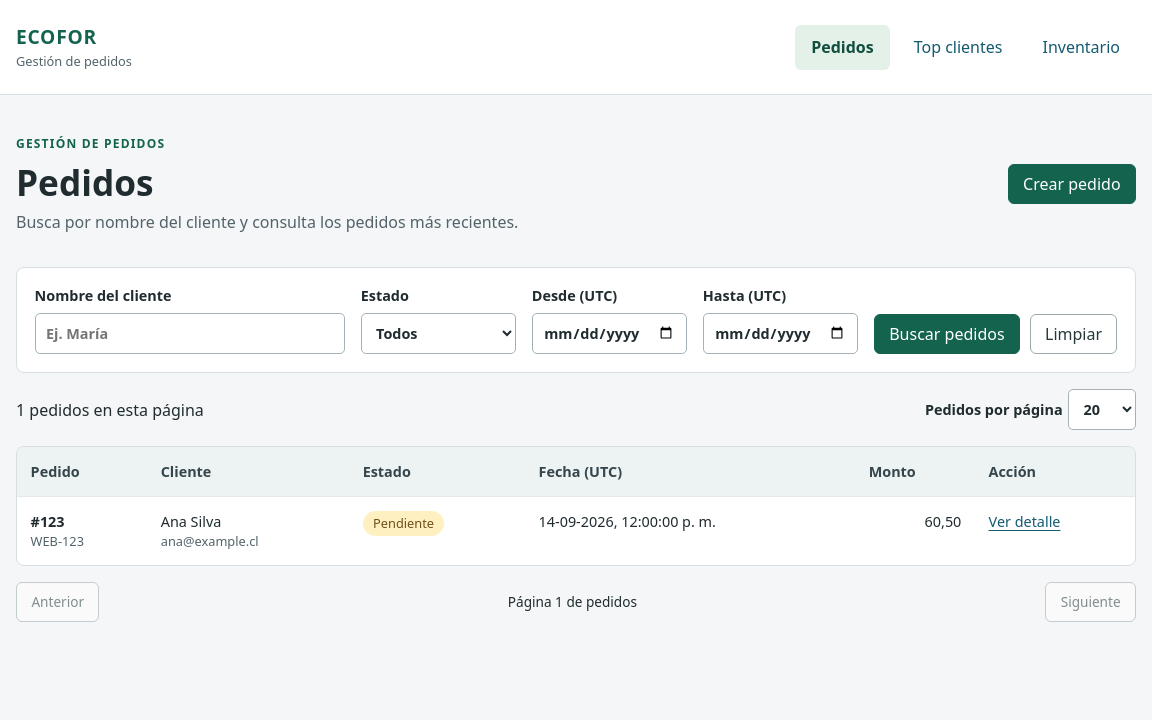
Test: Listado y navegación › rechaza fechas invertidas antes de solicitar la API
Expected: the link named "Ver pedido 123" is shown, [988,512,1060,531]
In the date field labelled "Desde (UTC)": (609, 333) [532,312,687,354], type "2026-09-14"
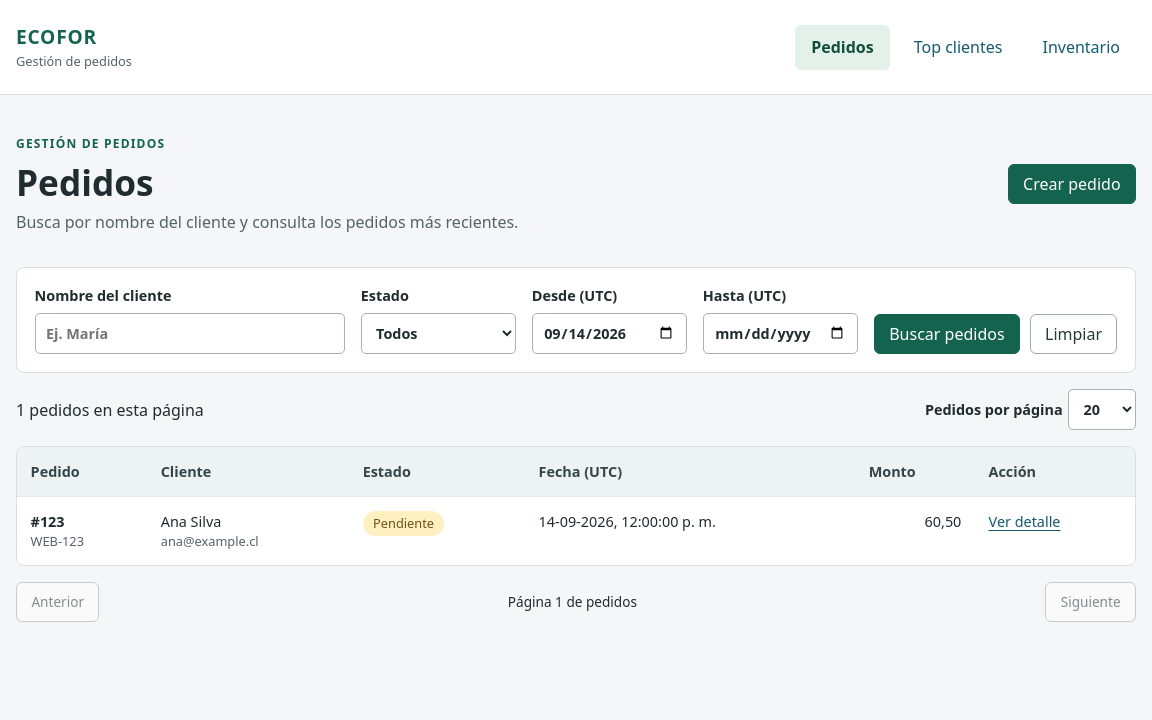
In the date field labelled "Hasta (UTC)": (780, 333) [703,312,858,354], type "2026-09-01"
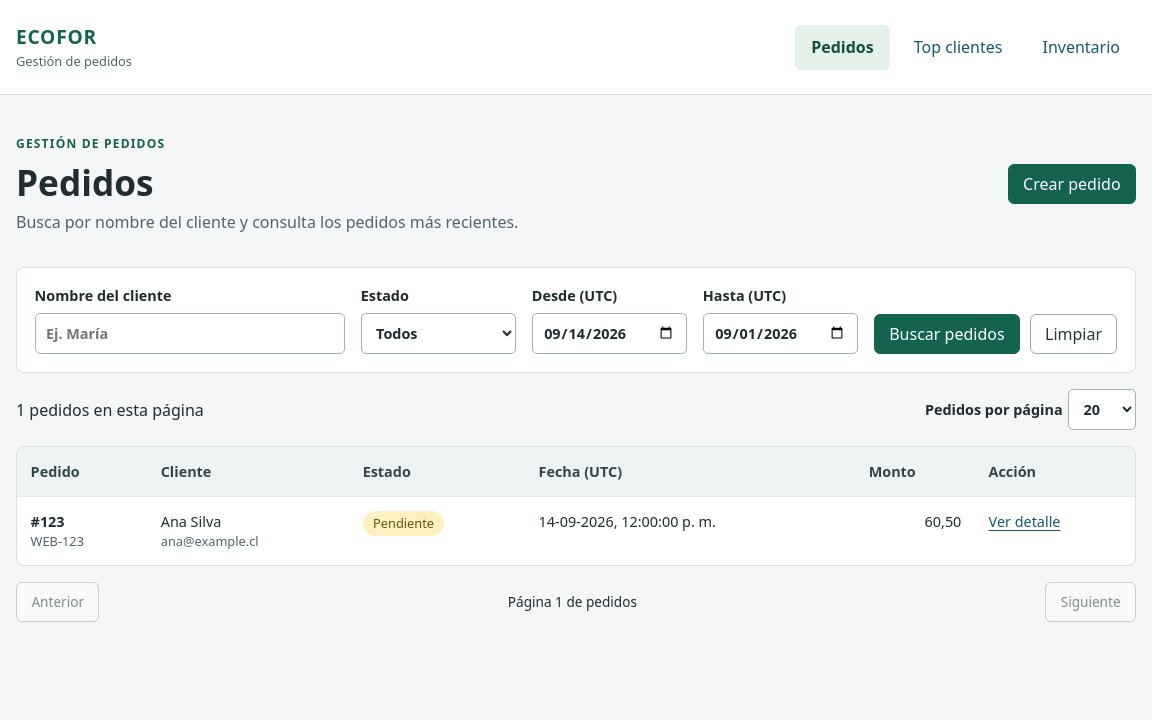
Click the button "Buscar pedidos": (947, 334) [874,314,1020,354]
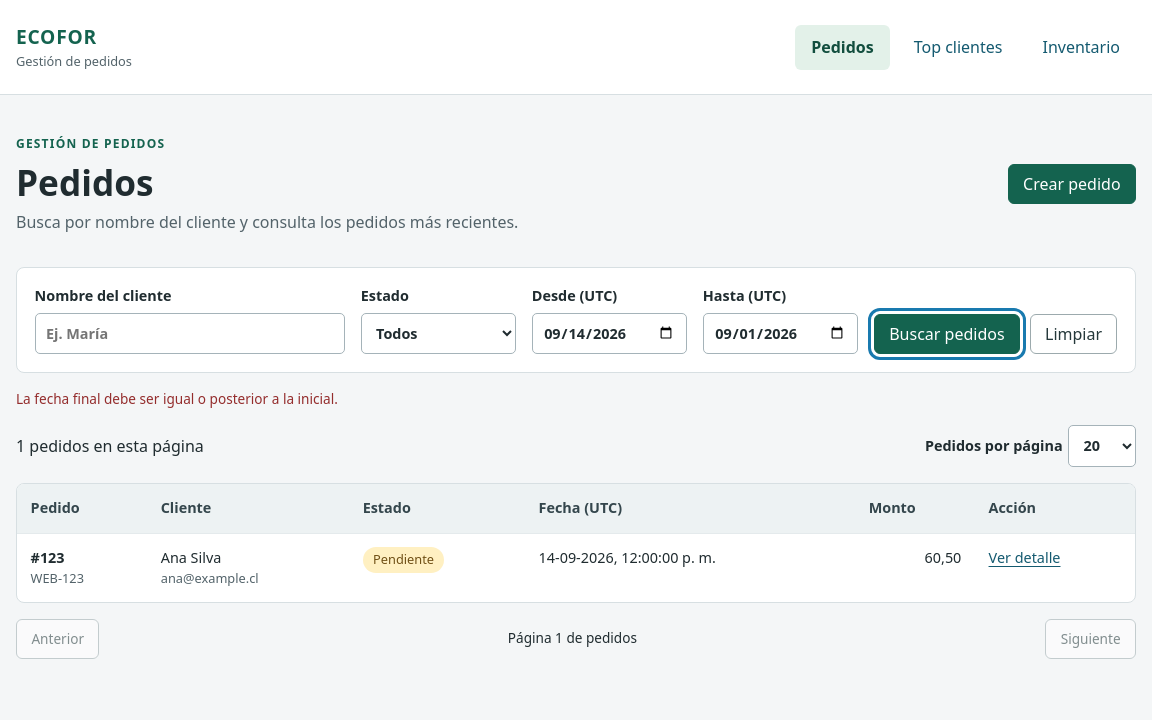
Expected: the message "La fecha final debe ser igual o posterior a la inicial." is shown, [16,389,338,408]
